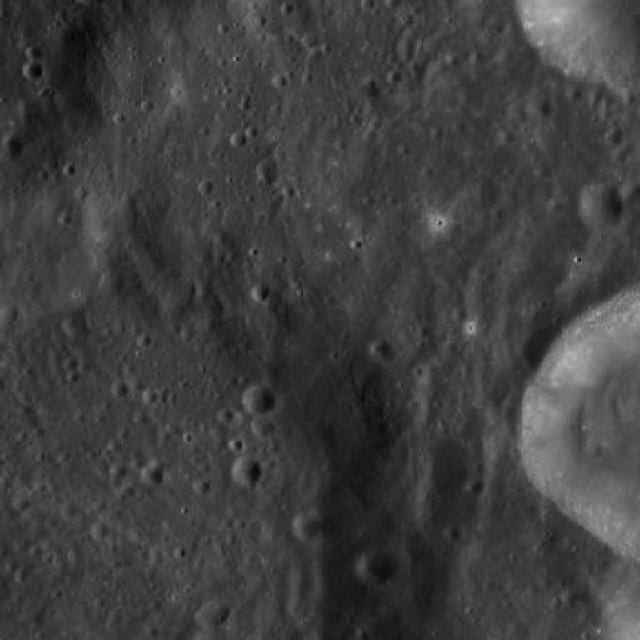crater: (409, 478, 477, 544), (82, 187, 138, 241), (422, 440, 468, 486), (580, 183, 626, 228), (281, 569, 324, 611), (358, 548, 394, 584), (198, 600, 230, 629), (244, 384, 274, 413), (293, 512, 322, 540), (233, 455, 261, 483), (474, 181, 502, 207), (566, 275, 592, 300), (372, 338, 396, 362), (506, 102, 531, 125), (528, 94, 552, 117), (257, 160, 280, 182), (396, 36, 419, 58), (142, 464, 164, 486), (22, 59, 44, 81), (252, 416, 274, 436), (508, 620, 528, 640), (2, 136, 22, 156), (621, 180, 640, 201), (45, 206, 64, 225), (92, 520, 110, 538), (606, 126, 625, 143), (0, 304, 17, 322), (27, 44, 44, 61), (252, 284, 270, 300), (109, 461, 126, 477), (467, 478, 484, 494), (560, 589, 576, 605), (194, 478, 210, 494), (62, 316, 80, 330), (112, 380, 130, 394), (220, 407, 234, 422), (0, 0, 2, 2)
